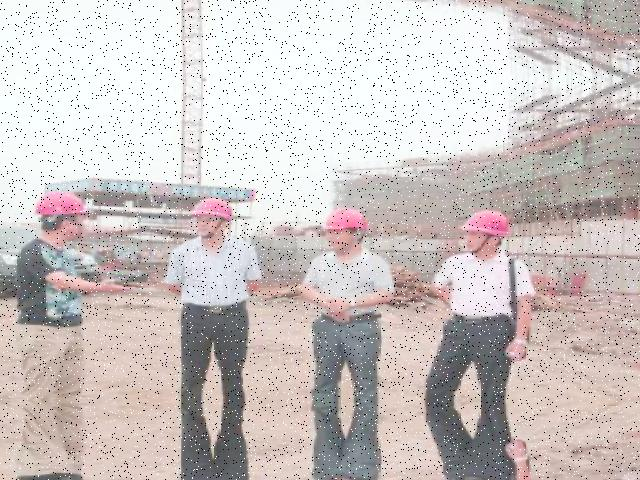Helmet: (30, 188, 90, 223), (455, 205, 511, 241), (318, 204, 370, 237), (183, 192, 235, 222)
